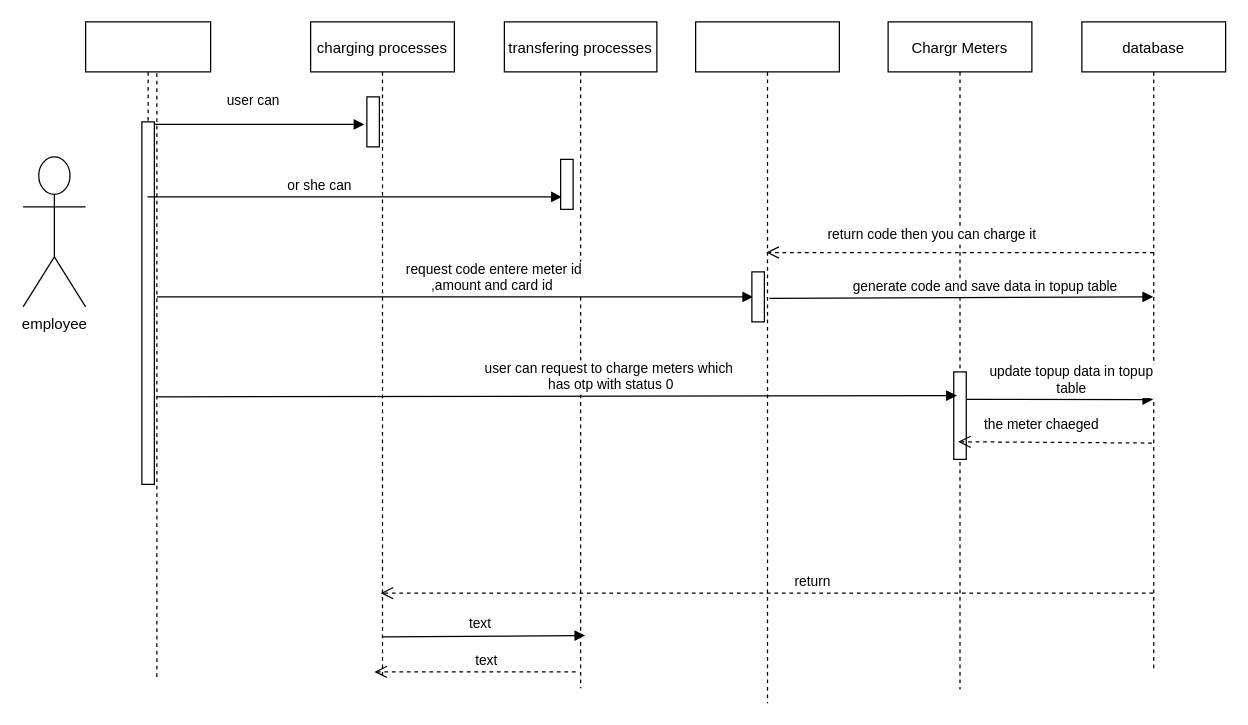
Image size: 1248x725. Some labels were removed from this diagram. Here are the shapes that lost their labels. From the top down, the box of each, then its label:
(84, 21, 211, 484): main page
(694, 21, 839, 703): request code
